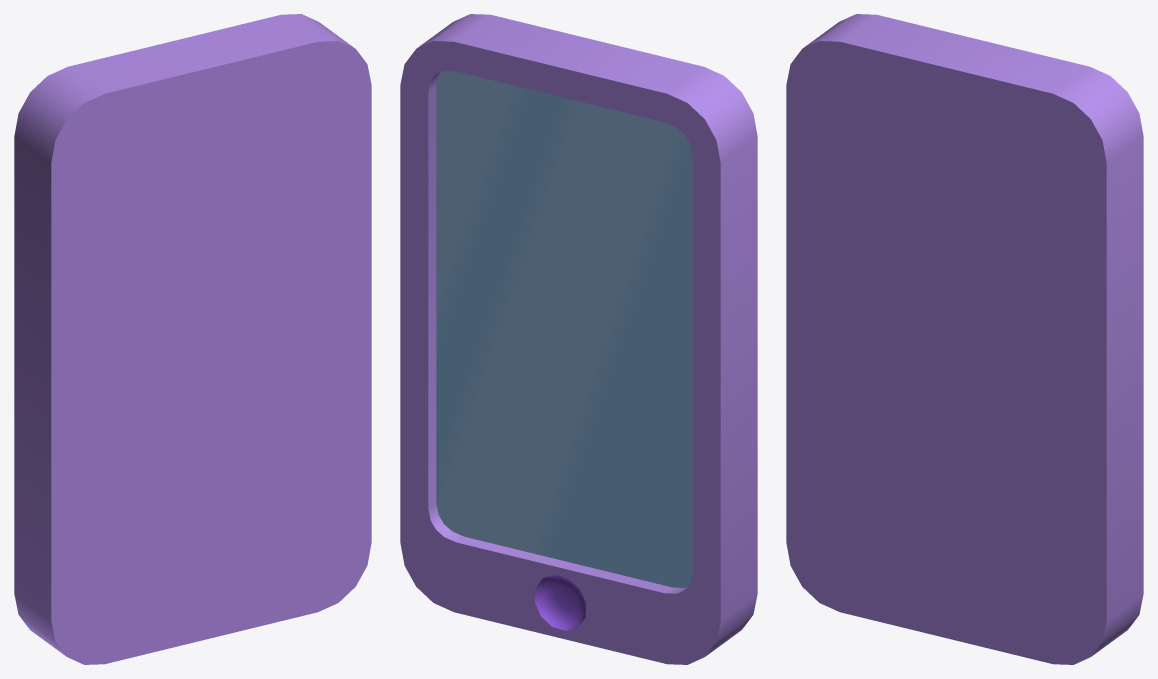
File: Smartphone-LowBRD_rootss30.fbx
3 views of the same model, side by side, from view 1: azimuth 30°, elevation 25°; view 2: azimuth 150°, elevation 25°; view 3: azimuth 330°, elevation 25° (orthographic).
Parts seen in each view (by area): view 1: Smartphone_LowBRD_sh_6, Smartphone_LowBRD_sh_18, Smartphone_LowBRD_sh_27, Smartphone_LowBRD_sh_23, Smartphone_LowBRD_sh_17, Smartphone_LowBRD_sh_8, Smartphone_LowBRD_sh_1, Smartphone_LowBRD_sh_4, Smartphone_LowBRD_sh_20, Smartphone_LowBRD_sh_12, Smartphone_LowBRD_sh_22, Smartphone_LowBRD_sh_29 (+16 smaller); view 2: Smartphone_LowBRD_sh_6, Smartphone_LowBRD_sh_18, Smartphone_LowBRD_sh_27, Smartphone_LowBRD_sh_23, Smartphone_LowBRD_sh_12, Smartphone_LowBRD_sh_15, Smartphone_LowBRD_sh_30, Smartphone_LowBRD_sh_24, Smartphone_LowBRD_sh_8, Smartphone_LowBRD_sh_28, Smartphone_LowBRD_sh_22, Smartphone_LowBRD_sh_21 (+16 smaller); view 3: Smartphone_LowBRD_sh_6, Smartphone_LowBRD_sh_27, Smartphone_LowBRD_sh_18, Smartphone_LowBRD_sh_23, Smartphone_LowBRD_sh_20, Smartphone_LowBRD_sh_19, Smartphone_LowBRD_sh_8, Smartphone_LowBRD_sh_4, Smartphone_LowBRD_sh_16, Smartphone_LowBRD_sh_21, Smartphone_LowBRD_sh_1, Smartphone_LowBRD_sh_9 (+16 smaller).
Boxes of the visible parts, <box> form: Smartphone_LowBRD_sh_6: <box>14,351,228,519</box>; Smartphone_LowBRD_sh_18: <box>14,485,186,664</box>; Smartphone_LowBRD_sh_27: <box>14,253,201,406</box>; Smartphone_LowBRD_sh_23: <box>117,448,276,614</box>; Smartphone_LowBRD_sh_17: <box>19,85,136,225</box>; Smartphone_LowBRD_sh_8: <box>203,149,308,292</box>; Smartphone_LowBRD_sh_1: <box>166,36,292,130</box>; Smartphone_LowBRD_sh_4: <box>235,489,371,590</box>; Smartphone_LowBRD_sh_20: <box>272,44,371,165</box>; Smartphone_LowBRD_sh_12: <box>171,257,283,376</box>; Smartphone_LowBRD_sh_22: <box>38,43,195,125</box>; Smartphone_LowBRD_sh_29: <box>216,295,294,435</box>; Smartphone_LowBRD_sh_6: <box>561,353,757,514</box>; Smartphone_LowBRD_sh_18: <box>604,488,757,645</box>; Smartphone_LowBRD_sh_27: <box>605,266,757,404</box>; Smartphone_LowBRD_sh_23: <box>520,449,669,598</box>; Smartphone_LowBRD_sh_12: <box>494,250,629,390</box>; Smartphone_LowBRD_sh_15: <box>679,138,757,322</box>; Smartphone_LowBRD_sh_30: <box>400,487,531,597</box>; Smartphone_LowBRD_sh_24: <box>458,391,576,506</box>; Smartphone_LowBRD_sh_8: <box>472,145,569,282</box>; Smartphone_LowBRD_sh_28: <box>558,171,682,281</box>; Smartphone_LowBRD_sh_22: <box>562,46,710,130</box>; Smartphone_LowBRD_sh_21: <box>400,230,497,330</box>; Smartphone_LowBRD_sh_6: <box>786,328,963,473</box>; Smartphone_LowBRD_sh_27: <box>786,202,936,331</box>; Smartphone_LowBRD_sh_18: <box>786,437,921,630</box>; Smartphone_LowBRD_sh_23: <box>852,454,1011,602</box>; Smartphone_LowBRD_sh_20: <box>1008,112,1143,234</box>; Smartphone_LowBRD_sh_19: <box>1041,430,1143,595</box>; Smartphone_LowBRD_sh_8: <box>938,180,1043,327</box>; Smartphone_LowBRD_sh_4: <box>970,533,1125,629</box>; Smartphone_LowBRD_sh_16: <box>1039,201,1143,315</box>; Smartphone_LowBRD_sh_21: <box>1018,281,1143,394</box>; Smartphone_LowBRD_sh_1: <box>922,38,1028,160</box>; Smartphone_LowBRD_sh_9: <box>1023,342,1129,456</box>.
Size of the model in its own units: 200 by 341 by 39.94.
Materials: 2 (1 with a texture image).
